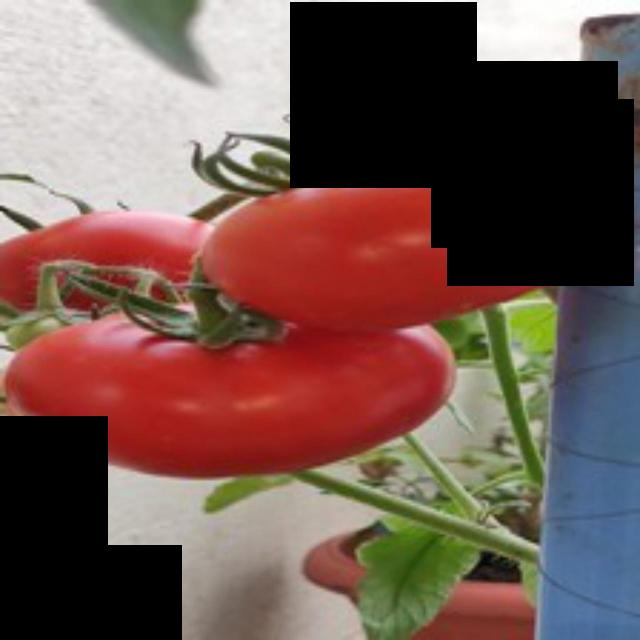tomato: (3, 297, 482, 487), (194, 134, 637, 337)
